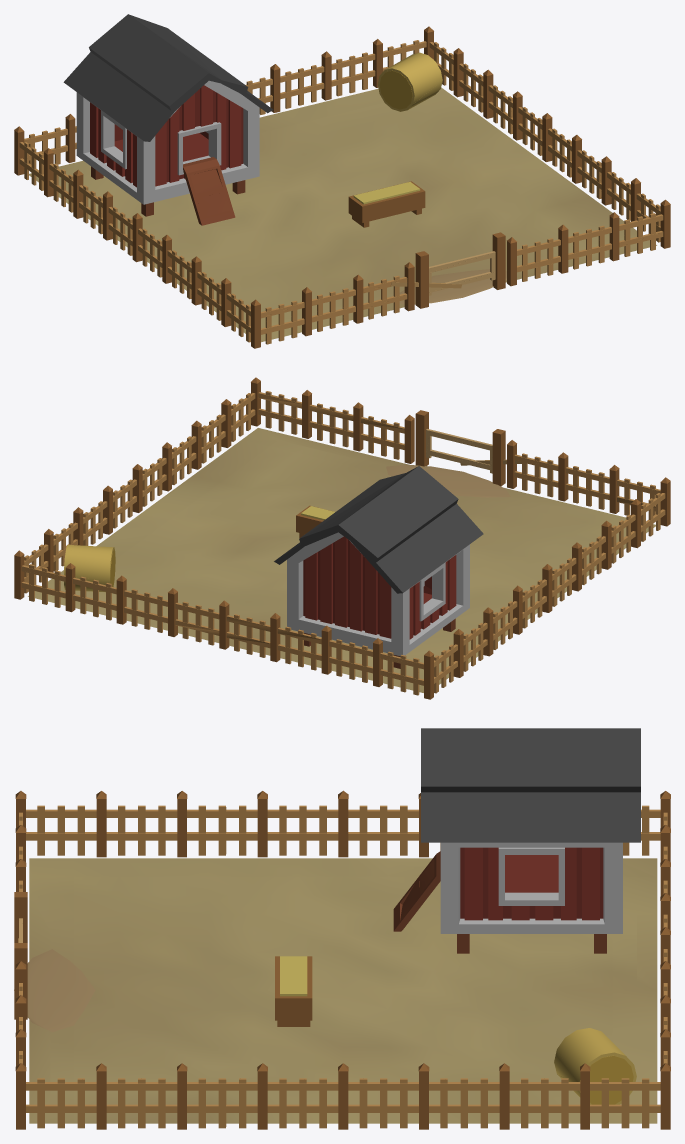
File: coop-g1.glb
3 views of the same model, one above another, from view 1: azimuth 30°, elevation 25°; view 2: azimuth 150°, elevation 25°; view 3: azimuth 270°, elevation 25° (orthographic). The views are drawn at different scales.
Parts seen in each view (by area): view 1: home-coop-g1, home-coop-g1-far; view 2: home-coop-g1, home-coop-g1-far; view 3: home-coop-g1, home-coop-g1-far.
Part boxes in pixels (x1,y1,x2,y2): home-coop-g1: (14,14,670,348); home-coop-g1-far: (18,14,670,348); home-coop-g1: (14,377,670,699); home-coop-g1-far: (14,382,666,699); home-coop-g1: (14,728,670,1129); home-coop-g1-far: (14,728,670,1126).
Bounding box in the file's own units: 7.93 × 2.58 × 7.95.
